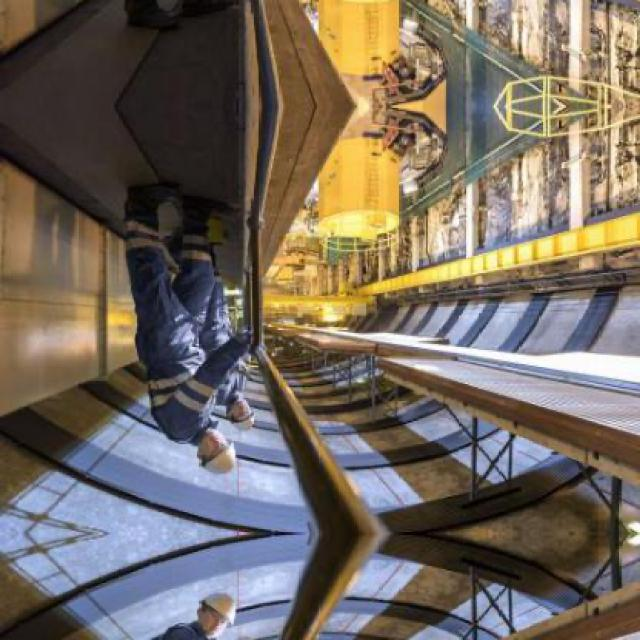con casco: (192, 421, 242, 491), (230, 384, 282, 435)
